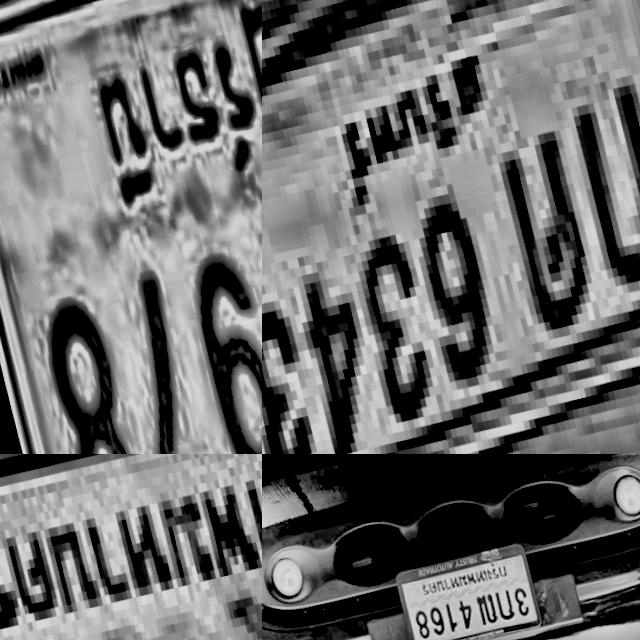license-plate: (262, 0, 640, 454), (0, 0, 262, 454), (0, 454, 262, 640), (388, 536, 548, 640)
